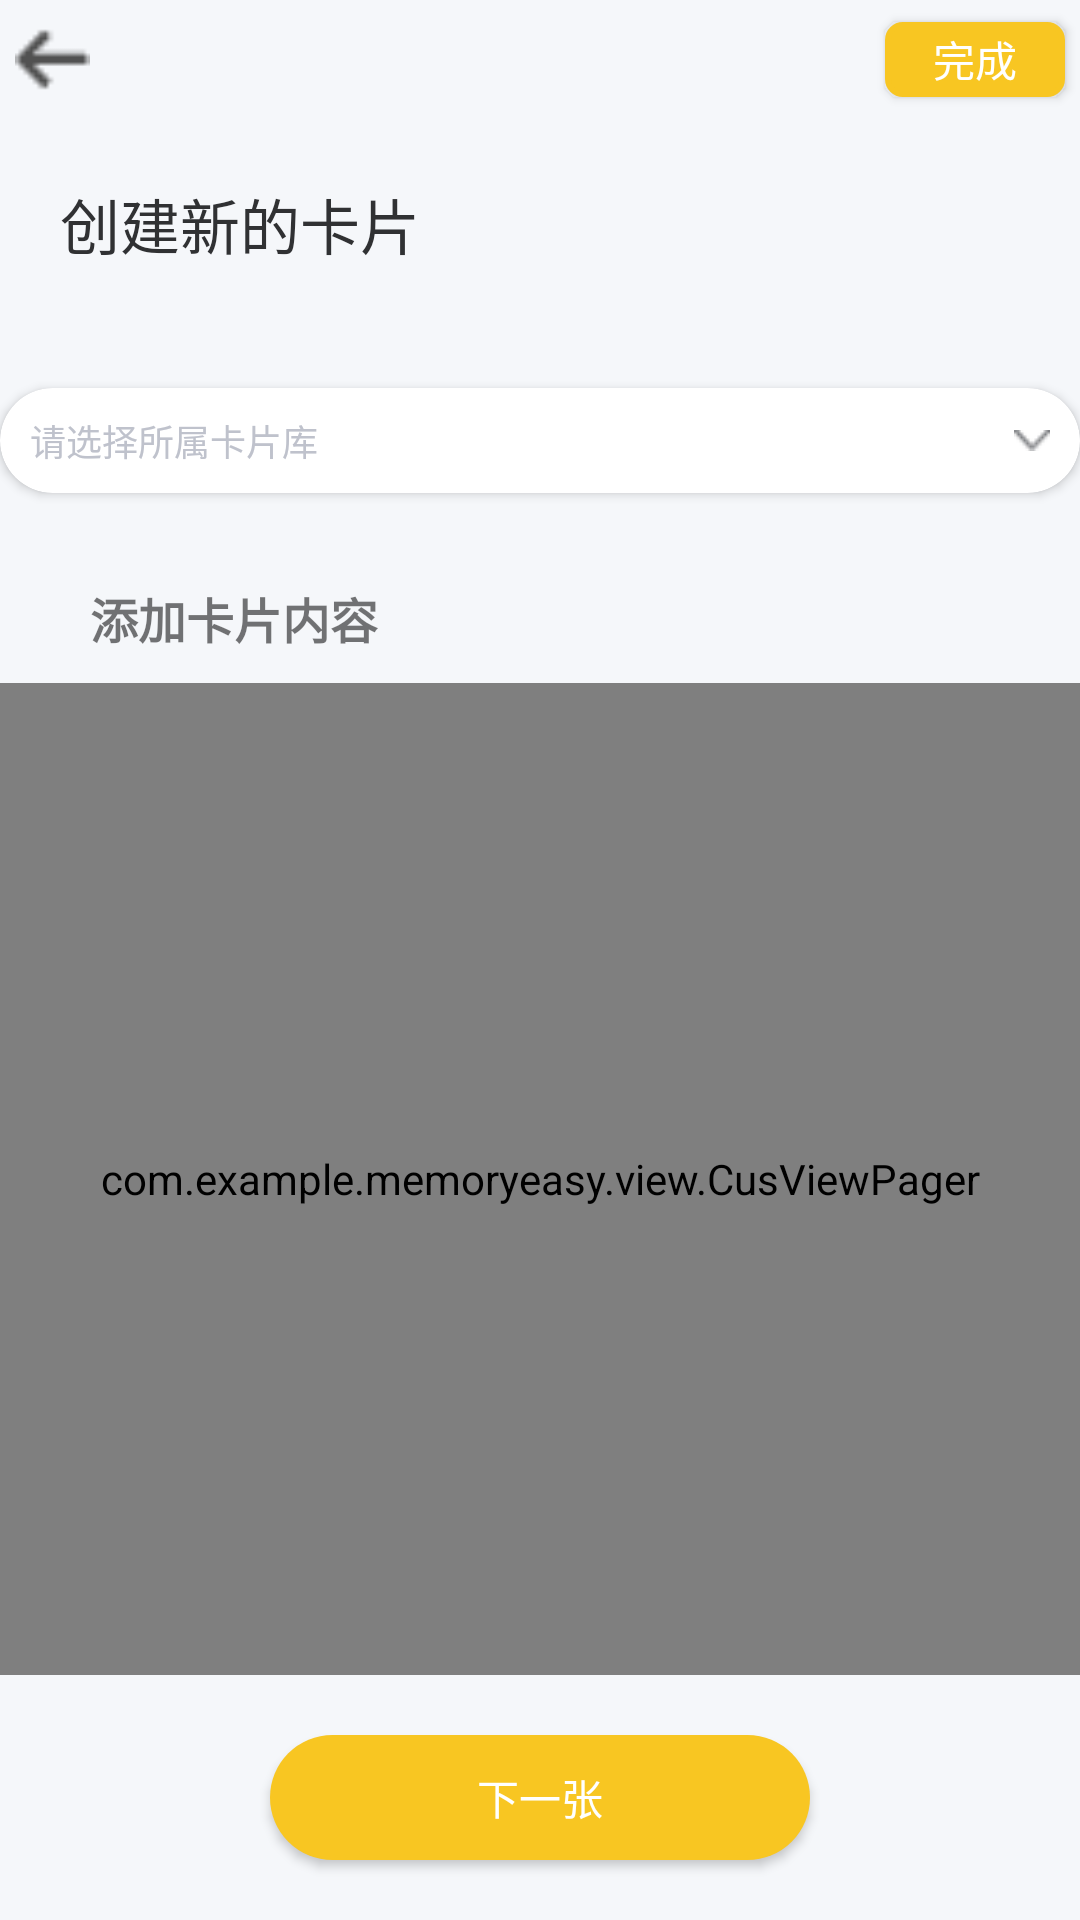

Icons on this 1080w x 1920h Android screen, each with its box as (x1, y1, x2, y2):
back: (15, 30, 90, 89)
